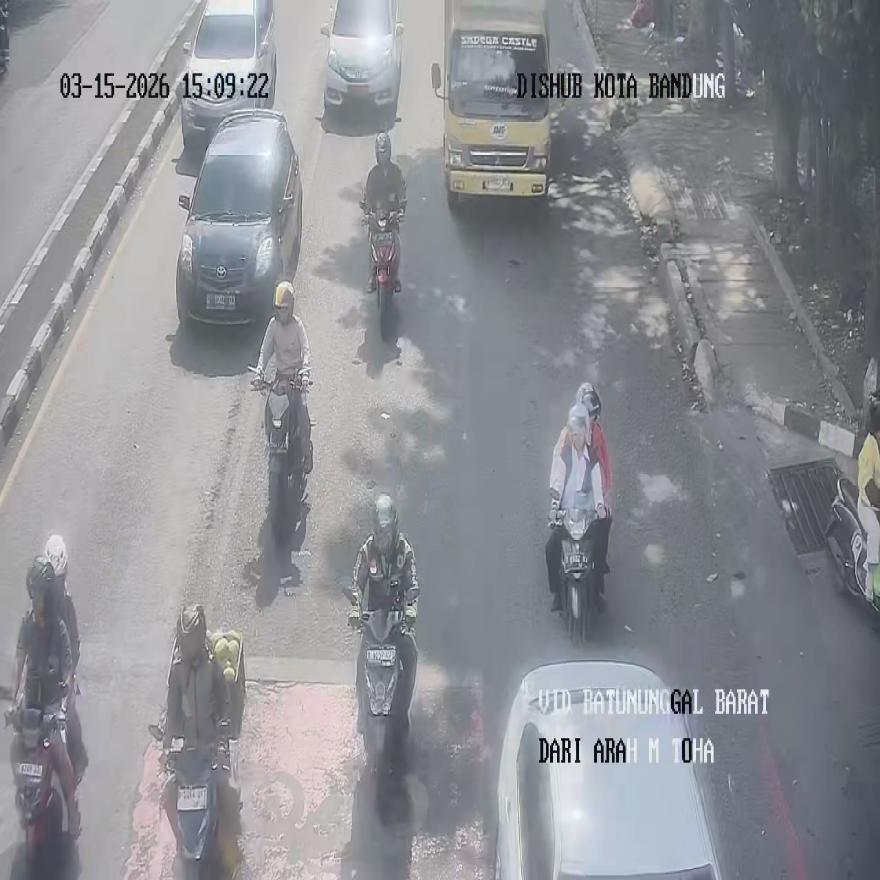Motor: (493, 660, 724, 879), (175, 108, 302, 325), (430, 0, 552, 205), (179, 0, 276, 145), (321, 0, 403, 112)
Truk: (151, 722, 240, 880), (4, 690, 74, 878), (347, 585, 415, 775), (251, 367, 311, 545), (825, 476, 880, 614), (555, 507, 602, 647), (362, 200, 402, 340), (0, 1, 10, 74)
